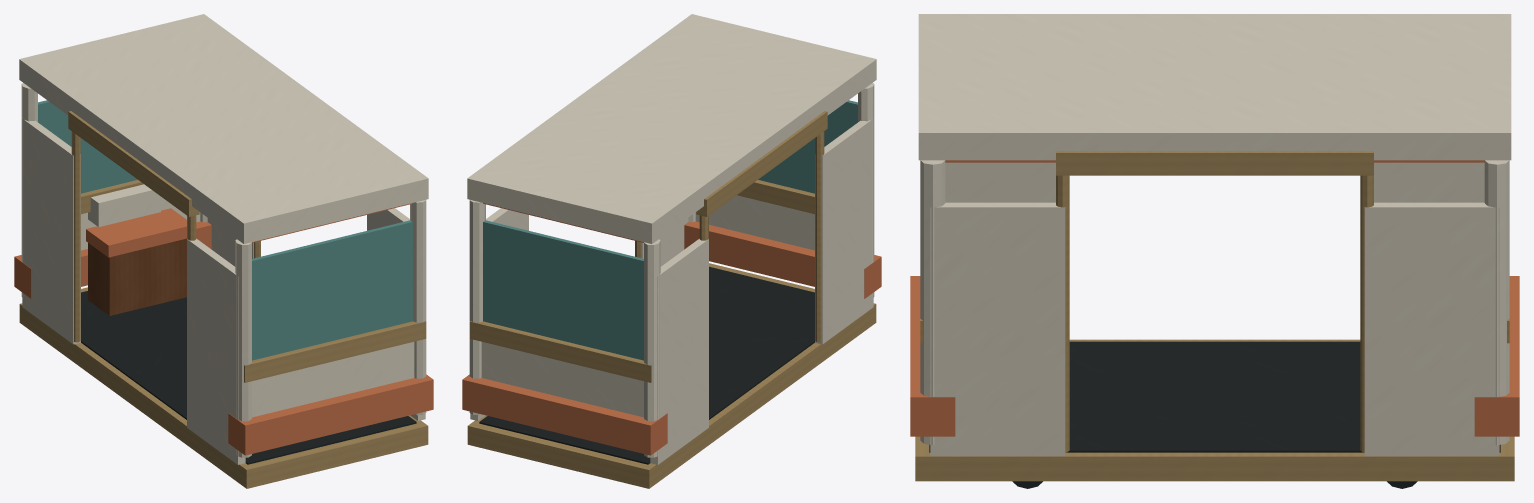
Rendered from AST-TRM-G4-011_cart_tram_component.glb.
The picture shows the model from 3 angles, left to right: view 1: azimuth 30°, elevation 25°; view 2: azimuth 150°, elevation 25°; view 3: azimuth 270°, elevation 25°; orthographic projection. The views are drawn at different scales.
Parts seen in each view (by area): view 1: V2__Tram_Layered_Canopy, V2__Tram_End_Glazing_2.26, V2__Tram_PortPocket_-1.74, V2__Tram_PortPocket_1.74, V2__Tram_AntiSlip_Deck, V2__Tram_Floor, V2__Tram_End_Bumper_2.26, V2__Tram_End_Guard_2.26, V2__Tram_Operator_Perch, V2__Tram_End_Sill_2.26, V2__Tram_Operator_Pad, V2__Tram_Corner_(-1.25, 2.26) (+11 smaller); view 2: V2__Tram_Layered_Canopy, V2__Tram_End_Glazing_-2.26, V2__Tram_AntiSlip_Deck, V2__Tram_PortPocket_1.74, V2__Tram_Floor, V2__Tram_PortPocket_-1.74, V2__Tram_End_Bumper_-2.26, V2__Tram_End_Guard_-2.26, V2__Tram_End_Bumper_2.26, V2__Tram_End_Sill_-2.26, V2__Tram_End_Guard_2.26, V2__Tram_Corner_(-1.25, -2.26) (+8 smaller); view 3: V2__Tram_Layered_Canopy, V2_Starboard__Tram_PortPocket_-1.74, V2_Starboard__Tram_PortPocket_1.74, V2__Tram_AntiSlip_Deck, V2__Tram_Floor, V2_Starboard__Tram_Port_Header, V2__Tram_PortPocket_-1.74, V2__Tram_PortPocket_1.74, V2__Tram_Corner_(1.25, -2.26), V2__Tram_Corner_(1.25, 2.26), V2__Tram_End_Bumper_-2.26, V2__Tram_End_Bumper_2.26 (+3 smaller).
Boxes of the visible parts, x1,y1,x2,y2 form: V2__Tram_Layered_Canopy: (19, 14, 428, 243); V2__Tram_End_Glazing_2.26: (252, 220, 412, 360); V2__Tram_PortPocket_-1.74: (22, 118, 80, 344); V2__Tram_PortPocket_1.74: (187, 238, 245, 464); V2__Tram_AntiSlip_Deck: (81, 291, 416, 464); V2__Tram_Floor: (19, 287, 428, 488); V2__Tram_End_Bumper_2.26: (228, 374, 433, 455); V2__Tram_End_Guard_2.26: (252, 342, 414, 417); V2__Tram_Operator_Perch: (88, 238, 186, 315); V2__Tram_End_Sill_2.26: (244, 321, 426, 382); V2__Tram_Operator_Pad: (86, 208, 186, 257); V2__Tram_Corner_(-1.25, 2.26): (235, 239, 251, 457); V2__Tram_Layered_Canopy: (467, 14, 876, 243); V2__Tram_End_Glazing_-2.26: (483, 220, 643, 360); V2__Tram_AntiSlip_Deck: (479, 266, 814, 464); V2__Tram_PortPocket_1.74: (815, 118, 873, 344); V2__Tram_Floor: (467, 263, 876, 488); V2__Tram_PortPocket_-1.74: (650, 238, 708, 464); V2__Tram_End_Bumper_-2.26: (462, 374, 667, 455); V2__Tram_End_Guard_-2.26: (481, 342, 643, 417); V2__Tram_End_Bumper_2.26: (684, 221, 881, 298); V2__Tram_End_Sill_-2.26: (469, 321, 651, 382); V2__Tram_End_Guard_2.26: (695, 195, 814, 250); V2__Tram_Corner_(-1.25, -2.26): (644, 239, 660, 457); V2__Tram_Layered_Canopy: (918, 14, 1511, 160); V2_Starboard__Tram_PortPocket_-1.74: (1364, 202, 1499, 456); V2_Starboard__Tram_PortPocket_1.74: (930, 202, 1065, 456); V2__Tram_AntiSlip_Deck: (929, 341, 1500, 452); V2__Tram_Floor: (915, 339, 1514, 481); V2_Starboard__Tram_Port_Header: (1056, 151, 1373, 175); V2__Tram_PortPocket_-1.74: (1374, 162, 1484, 202); V2__Tram_PortPocket_1.74: (945, 162, 1055, 202); V2__Tram_Corner_(1.25, -2.26): (1484, 160, 1509, 445); V2__Tram_Corner_(1.25, 2.26): (920, 160, 945, 445); V2__Tram_End_Bumper_-2.26: (1474, 276, 1519, 436); V2__Tram_End_Bumper_2.26: (910, 276, 955, 436).
Bounding box in the file's own units: 2.33 × 3.23 × 4.88.
6 materials, 4 textured.
